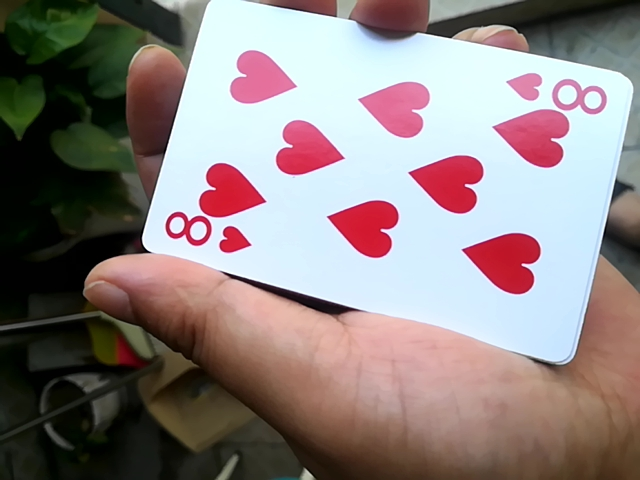hx 8: (146, 5, 628, 350)
